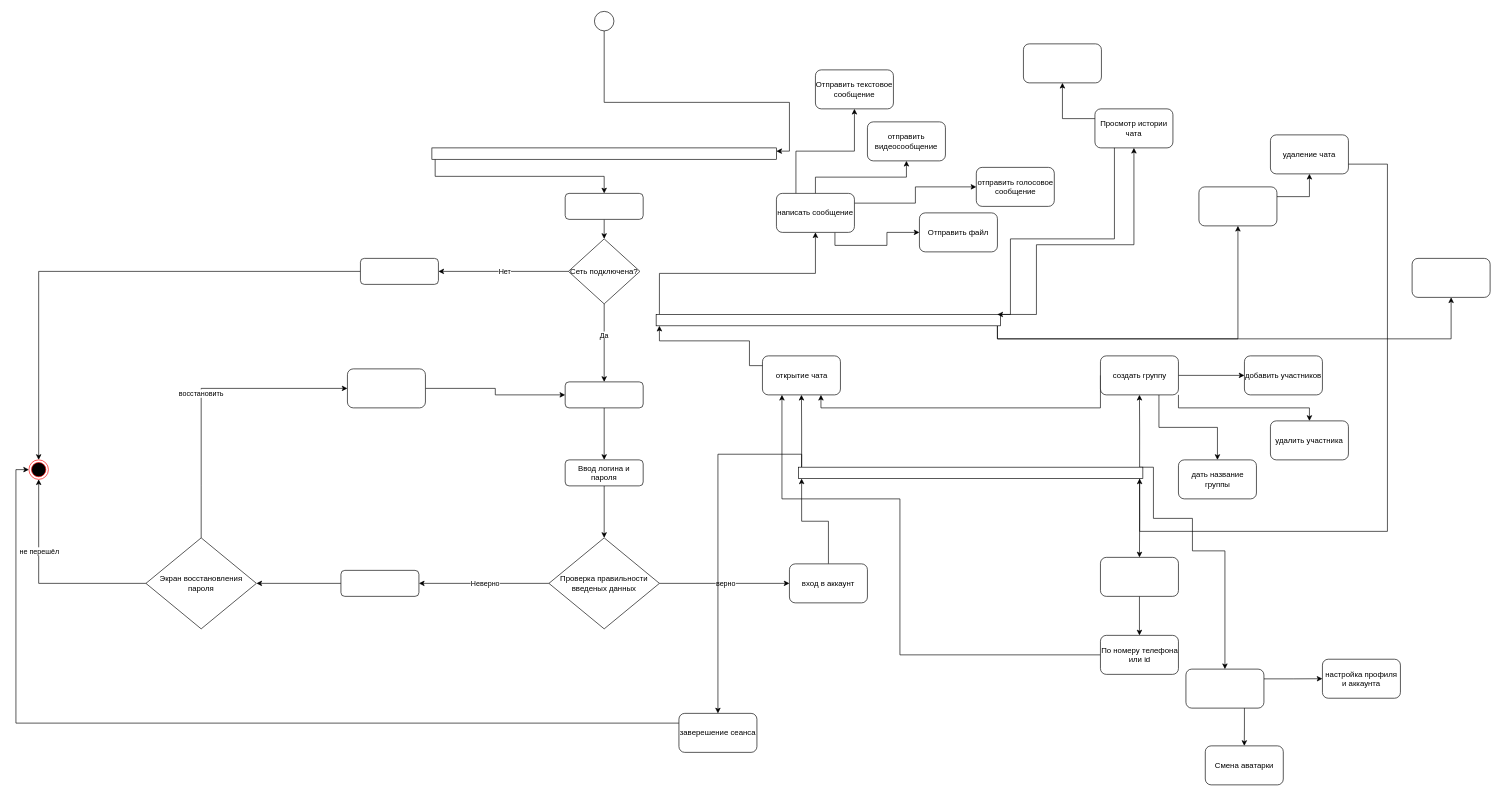
This 1502x796 diagram has some shape labels left out. The box of each missing label's shape, as (x1, y1, x2, y2) in pixels:
восстановление пароля: (347, 368, 425, 408)
Заблокировать: (1198, 186, 1277, 226)
Загрузка экрана входа: (565, 381, 643, 408)
Запуск приложения: (565, 193, 643, 219)
мьют чата: (1411, 258, 1490, 297)
найти новый контакт: (1100, 557, 1178, 596)
Отображение ошибки: (340, 570, 419, 596)
поиск по сообщению: (1023, 43, 1101, 83)
просмотр профиля: (1185, 668, 1264, 708)
Сообщение об ошибке: (360, 258, 438, 284)
